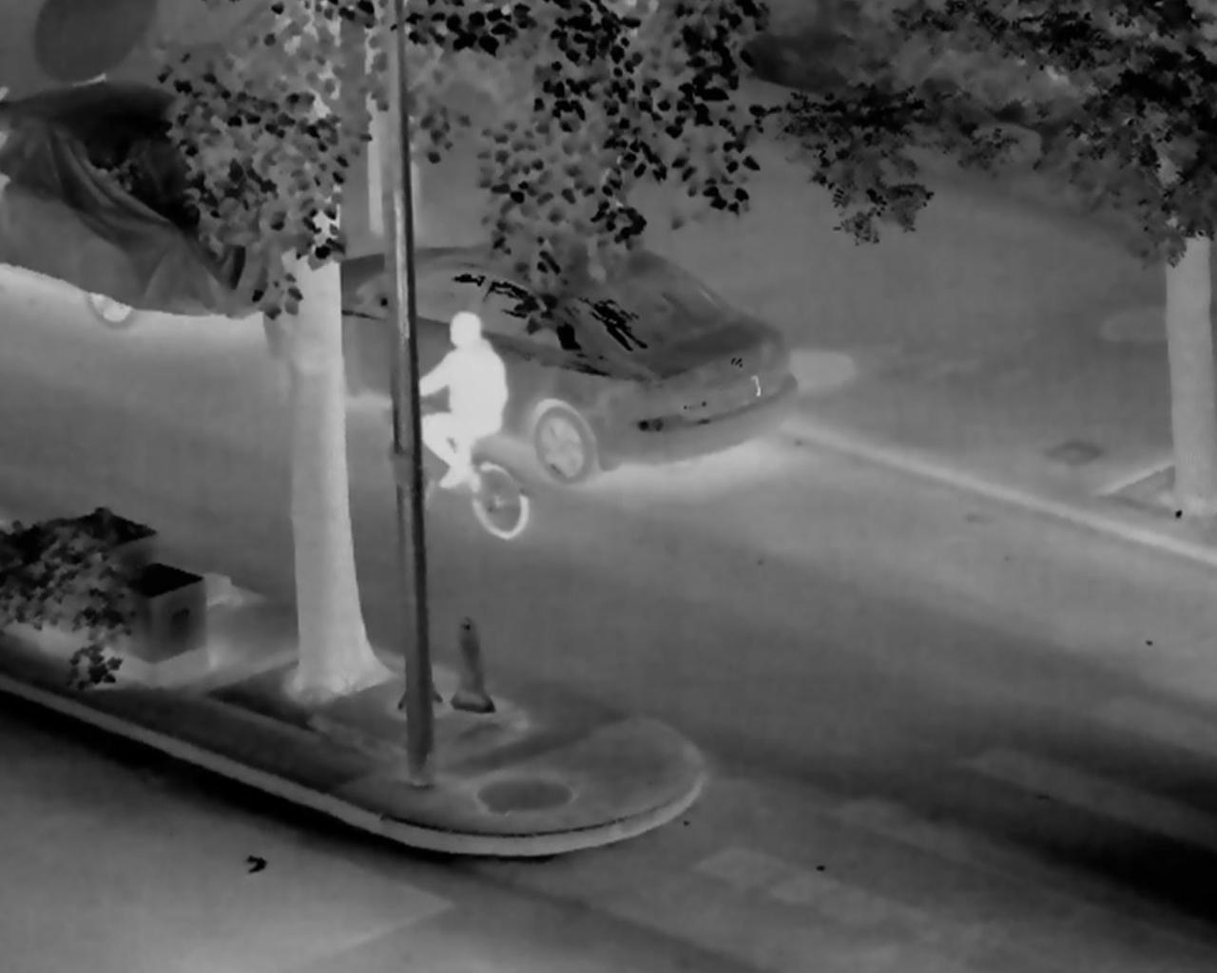person: (413, 314, 508, 492)
